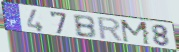4: (26, 8, 45, 34)
7: (49, 11, 69, 36)
8: (150, 24, 171, 48)
B: (72, 15, 99, 40)
M: (120, 19, 153, 47)
R: (97, 16, 126, 43)
